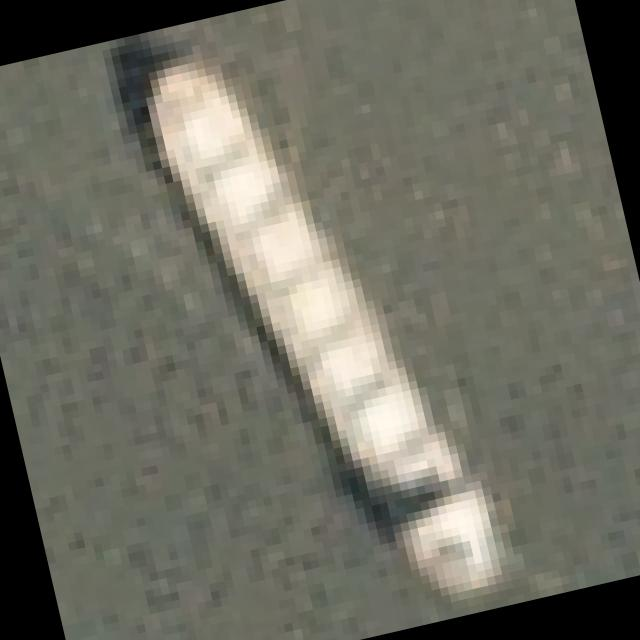ship: (84, 0, 580, 640)
